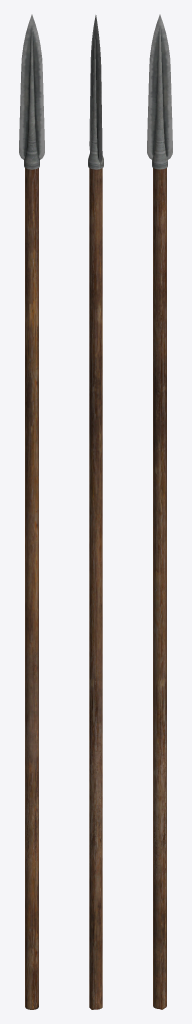
Rendered from Spear_02.fbx.
The picture shows the model from 3 angles, left to right: view 1: azimuth 90°, elevation 25°; view 2: azimuth 210°, elevation 25°; view 3: azimuth 270°, elevation 25°; orthographic projection.
Parts seen in each view (by area): view 1: Spear_02_LOD0; view 2: Spear_02_LOD0; view 3: Spear_02_LOD0.
Boxes of the visible parts, bbox=[...] form: Spear_02_LOD0: bbox=[19, 14, 44, 1009]; Spear_02_LOD0: bbox=[88, 15, 103, 1009]; Spear_02_LOD0: bbox=[147, 14, 172, 1009].
Size of what is drawn, in the model's own units: 2.98 by 203 by 4.86.
